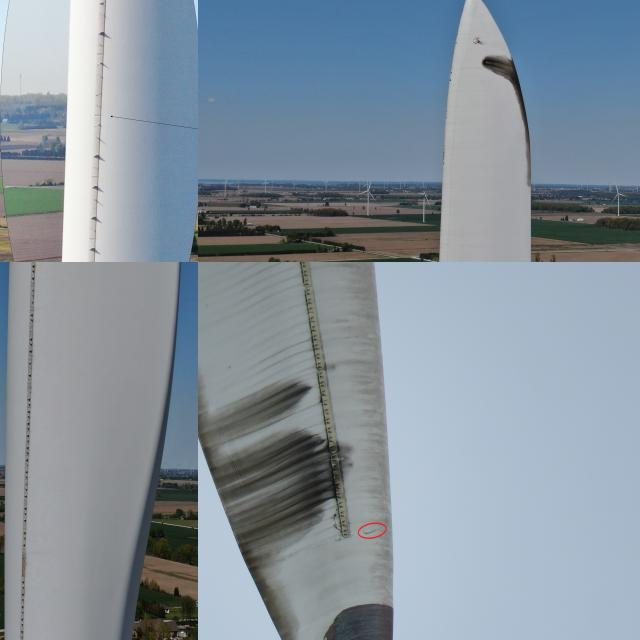damage: (312, 600, 405, 639), (476, 47, 528, 96), (24, 382, 34, 407), (20, 550, 28, 579)
